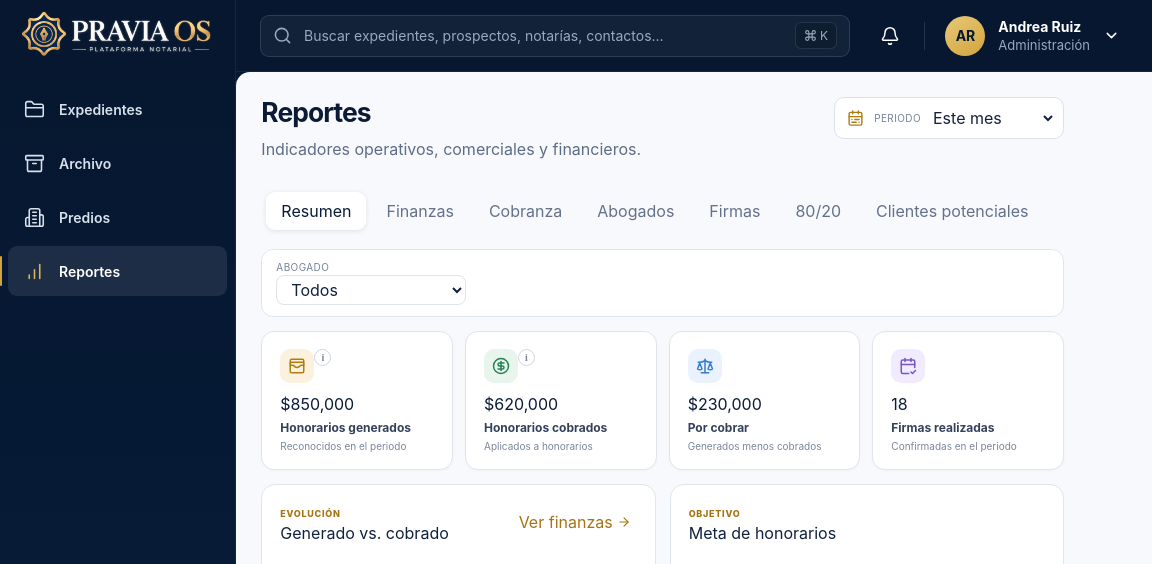
Reportes › presenta resumen ejecutivo trazable, visualizaciones accesibles y drill-down
Check: the heading "Reportes" is shown, box [261,96,371,128]
Check: the text "Honorarios generados" is shown, box [280,420,411,435]
Click the button "i $850,000 Honorarios generados Reconocidos en el periodo" at (357, 401), box [261,331,453,470]
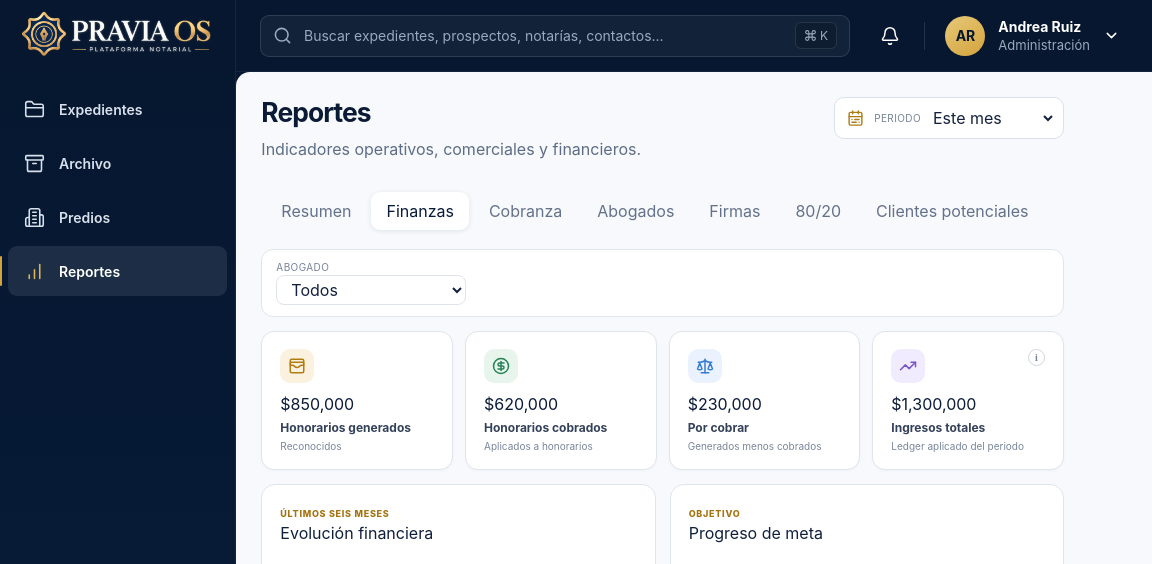
Check: the heading "Evolución financiera" is shown, box [280,523,433,543]
